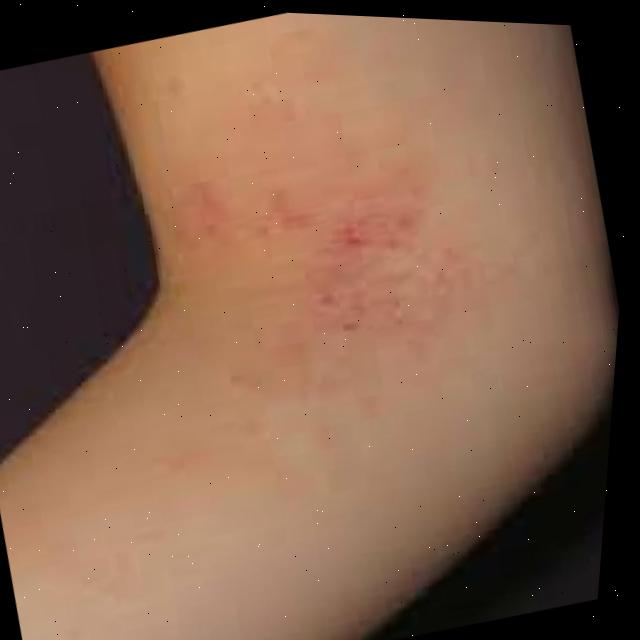Eczema: (140, 108, 508, 482)
